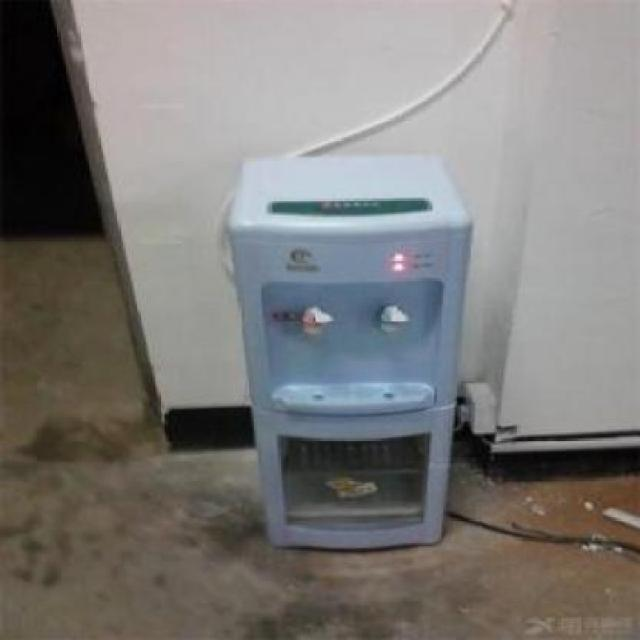cooler: (231, 149, 477, 555)
